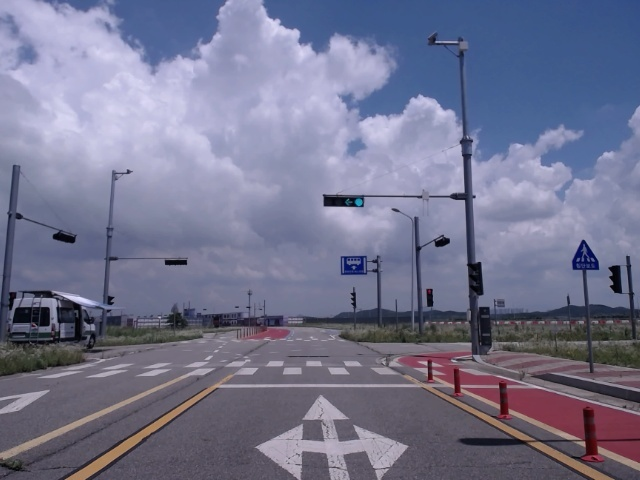all_green_4: (324, 194, 363, 207)
